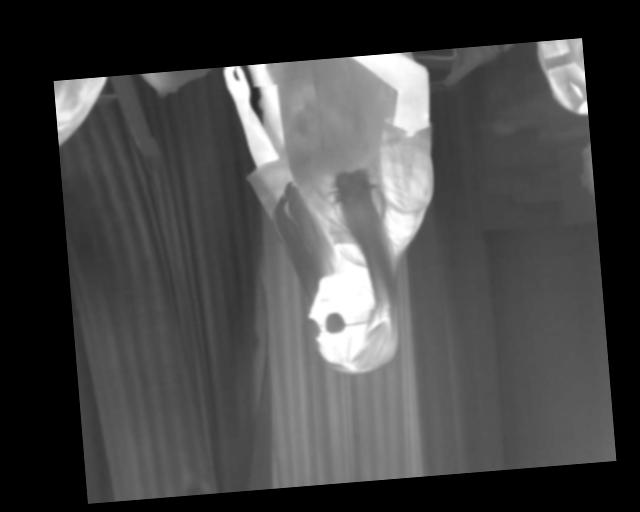face: (303, 270, 396, 377)
